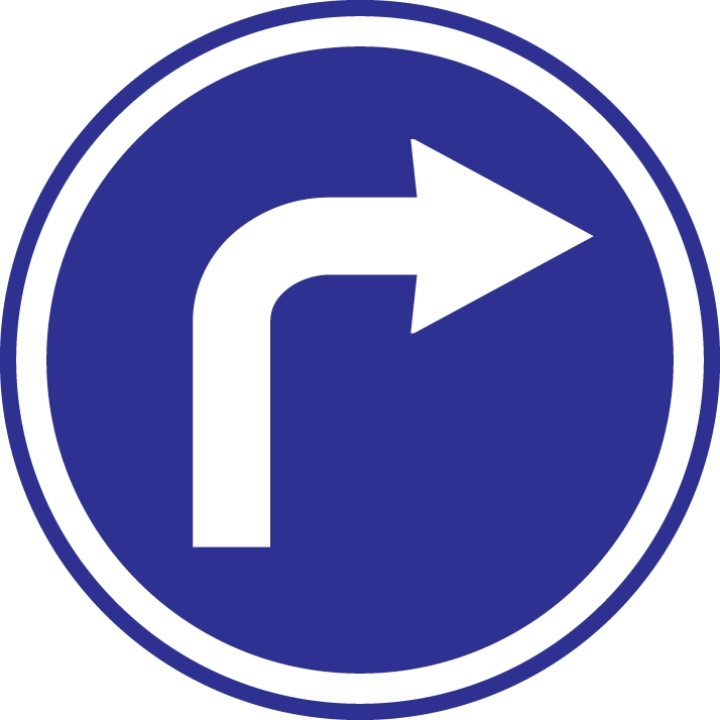right: (180, 114, 600, 565)
